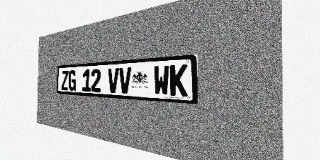1: (82, 69, 91, 92)
2: (91, 69, 101, 92)
G: (68, 70, 76, 91)
K: (170, 64, 188, 97)
V: (119, 67, 131, 94), (108, 68, 119, 93)
W: (153, 65, 169, 96)
Z: (61, 70, 68, 90)
